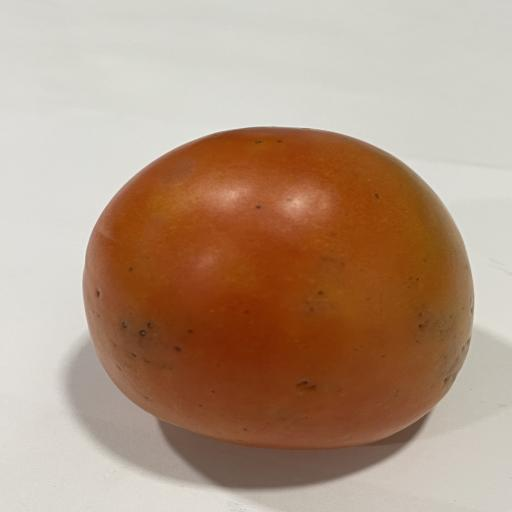unripe: (83, 127, 473, 449)
